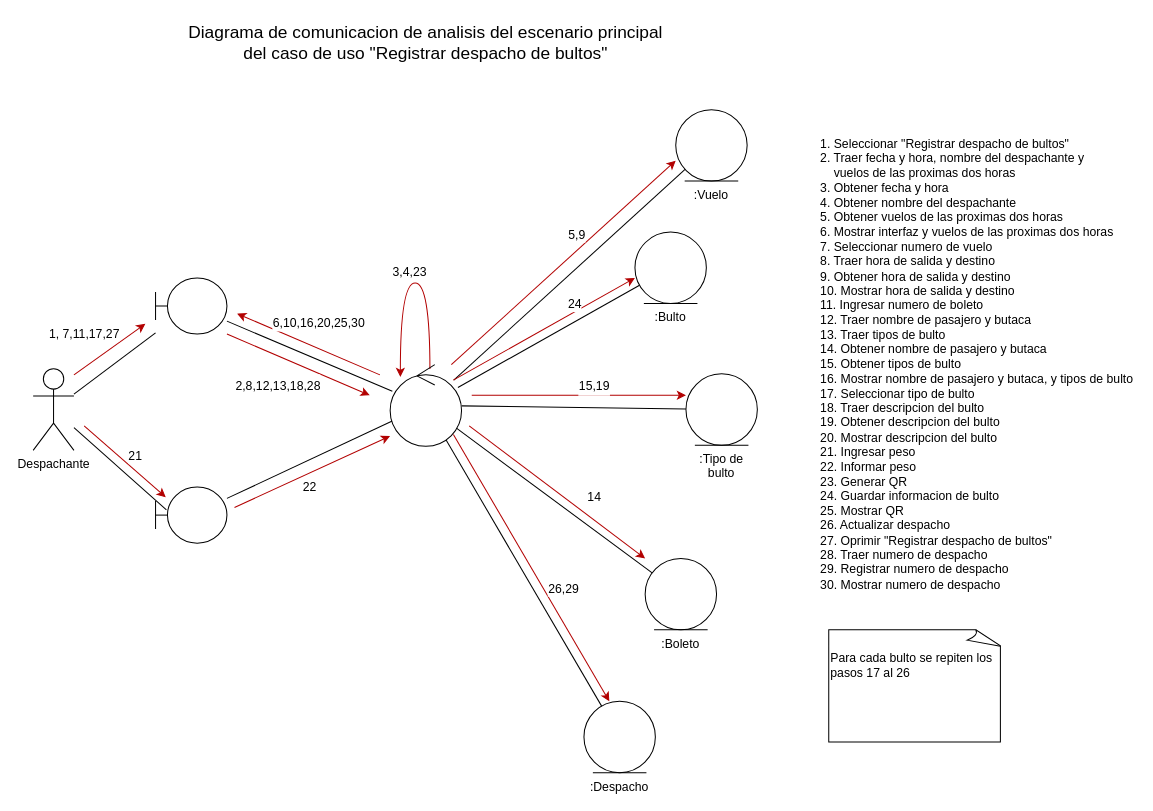
Some shapes in this 1153 by 811 pixel diagram are drawn without their labels. Here are the shapes that lost their labels. From the top down, the box of each, then its label:
(155, 277, 227, 334): :Interfaz principal del caso de uso "Registrar despacho de bultos
(389, 364, 462, 446): :Gestor del caso de uso "Registrar despacho de bultos
(155, 486, 227, 543): :Balanza
